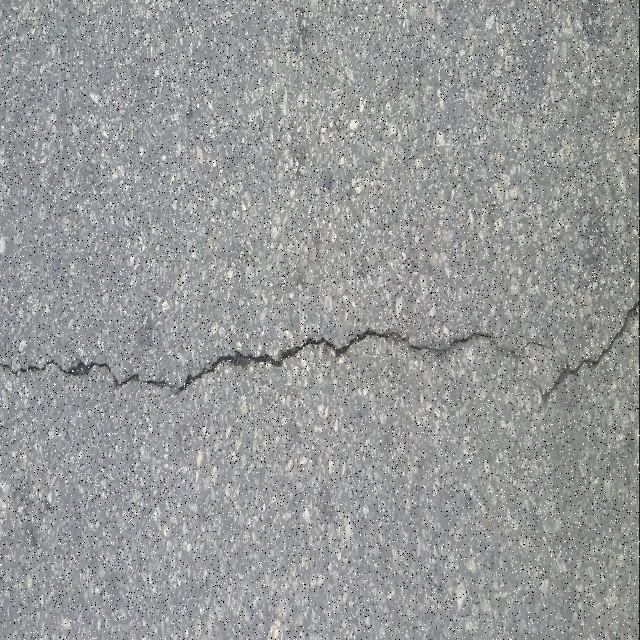Crack: (0, 327, 531, 393), (539, 299, 640, 405)
